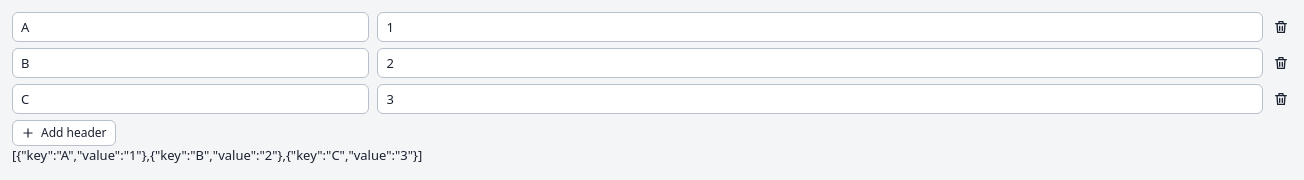
KeyValueList › removes the right row
The width and height of the screenshot is (1304, 180).
Click the 2nd button named "Remove header" at (1281, 63), box [1271, 48, 1292, 78]
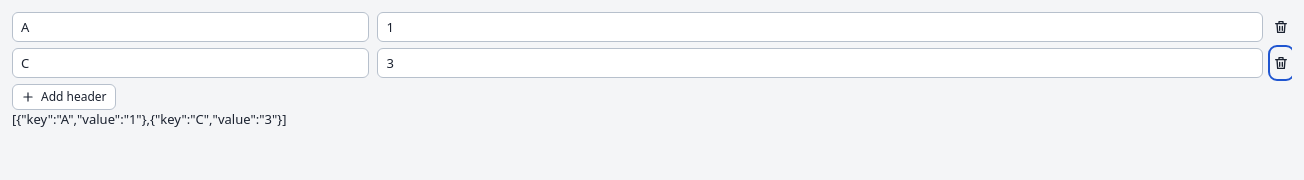
Check: the number of elements with test id "kv-row" is 2, box [12, 12, 1292, 42]; [12, 48, 1292, 78]
